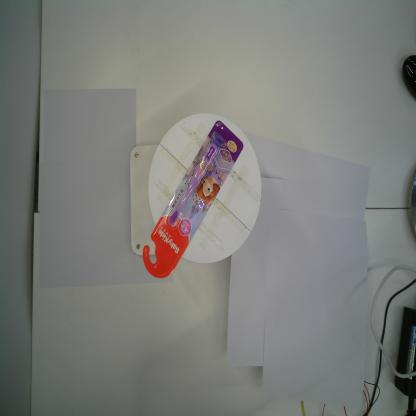Personal Hygiene: (142, 119, 244, 279)
